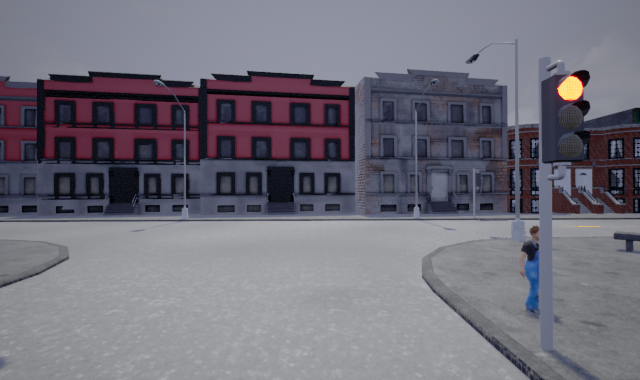pedestrian: (516, 225, 549, 316)
